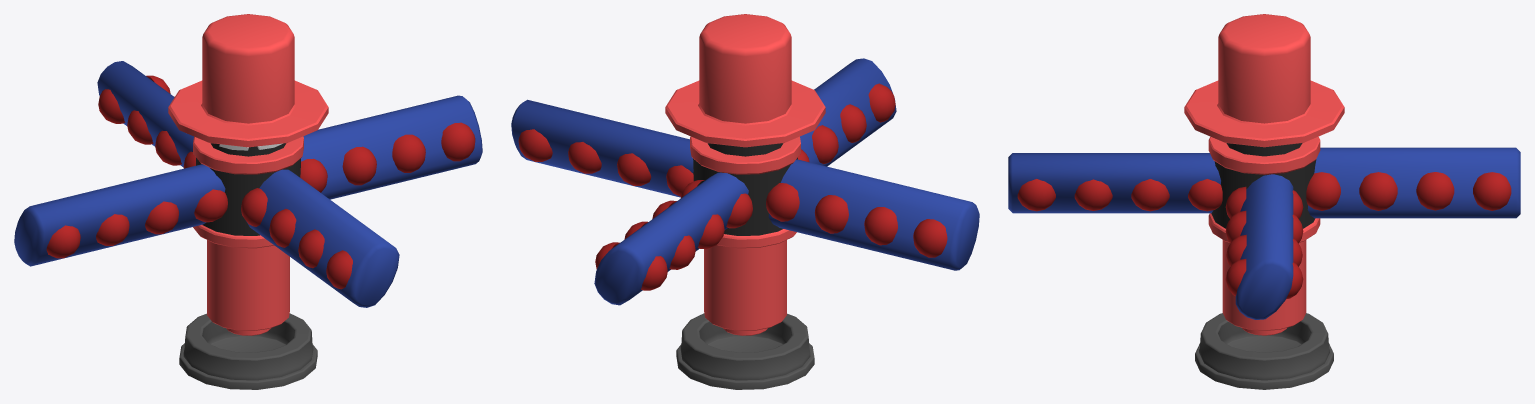
The model's file is ObstacleComplex_01 (3).fbx.
3 renders of one model, left to right at view 1: azimuth 30°, elevation 25°; view 2: azimuth 150°, elevation 25°; view 3: azimuth 270°, elevation 25°, orthographic.
Visible parts, largest first — view 1: Cilinder_hat, CylinderCenter, Bar_03, Bar_01, Bar_04, BaseBottom, Spheres_01, Bar_02, Spheres_03, Spheres_04, Spheres_02; view 2: Cilinder_hat, CylinderCenter, Bar_03, BaseBottom, Bar_01, Bar_02, Spheres_03, Bar_04, Spheres_02, Spheres_01, Spheres_04; view 3: Cilinder_hat, Bar_02, Bar_04, BaseBottom, CylinderCenter, Bar_01, Spheres_02, Spheres_04, Spheres_01.
Boxes of the visible parts, x1=… form: Cilinder_hat: x1=168, y1=14, x2=328, y2=156; CylinderCenter: x1=193, y1=136, x2=303, y2=335; Bar_03: x1=14, y1=164, x2=225, y2=266; Bar_01: x1=301, y1=95, x2=482, y2=199; Bar_04: x1=246, y1=169, x2=399, y2=307; BaseBottom: x1=179, y1=313, x2=317, y2=389; Spheres_01: x1=300, y1=122, x2=475, y2=192; Bar_02: x1=97, y1=61, x2=193, y2=167; Spheres_03: x1=46, y1=189, x2=227, y2=258; Spheres_04: x1=241, y1=188, x2=352, y2=289; Spheres_02: x1=98, y1=75, x2=195, y2=168; Cilinder_hat: x1=665, y1=14, x2=825, y2=156; CylinderCenter: x1=690, y1=136, x2=800, y2=335; Bar_03: x1=768, y1=159, x2=979, y2=270; BaseBottom: x1=676, y1=313, x2=814, y2=389; Bar_01: x1=511, y1=99, x2=693, y2=197; Bar_02: x1=594, y1=172, x2=748, y2=305; Spheres_03: x1=766, y1=183, x2=947, y2=257; Bar_04: x1=800, y1=58, x2=896, y2=166; Spheres_02: x1=595, y1=180, x2=752, y2=290; Spheres_01: x1=518, y1=129, x2=693, y2=196; Spheres_04: x1=798, y1=83, x2=895, y2=164; Cilinder_hat: x1=1184, y1=14, x2=1344, y2=156; Bar_02: x1=1307, y1=147, x2=1520, y2=218; Bar_04: x1=1008, y1=153, x2=1220, y2=213; BaseBottom: x1=1195, y1=313, x2=1333, y2=389; CylinderCenter: x1=1208, y1=136, x2=1320, y2=335; Bar_01: x1=1235, y1=174, x2=1293, y2=319; Spheres_02: x1=1306, y1=172, x2=1511, y2=210; Spheres_04: x1=1017, y1=179, x2=1222, y2=211; Spheres_01: x1=1225, y1=186, x2=1303, y2=299.
Size of the model in its own units: 581 by 412 by 581.
